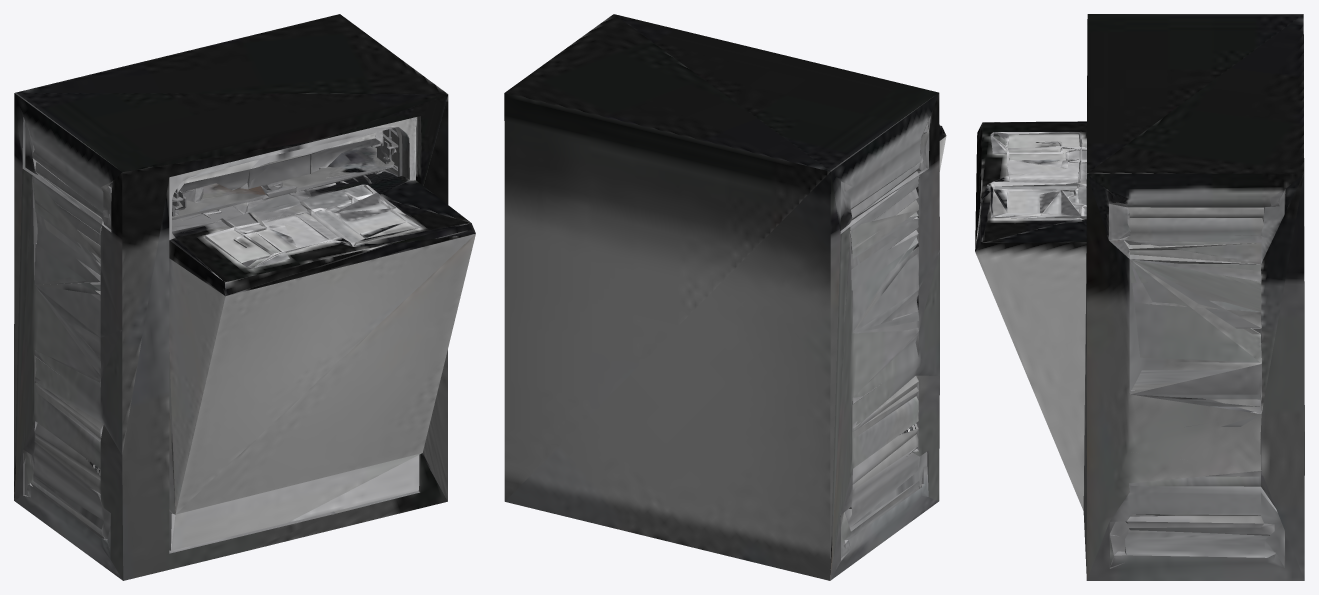
The model's file is aeg-dishwasher-standard-fse63817p.glb.
3 views of the same model, side by side, from view 1: azimuth 30°, elevation 25°; view 2: azimuth 150°, elevation 25°; view 3: azimuth 270°, elevation 25° (orthographic).
Size of the model in its own units: 1.61 by 1.9 by 1.39.
1 material, 1 textured.
